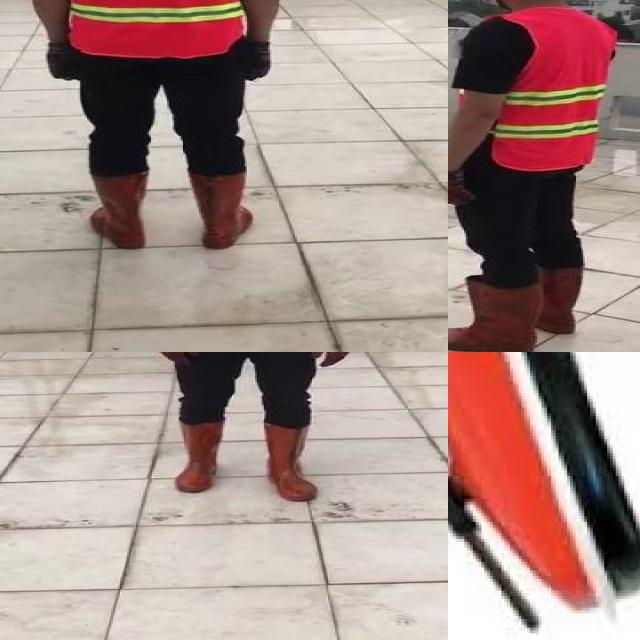Ear-protection: (448, 352, 640, 607)
boots: (448, 277, 542, 352), (186, 169, 256, 248), (86, 172, 148, 251), (261, 421, 319, 503), (177, 419, 227, 494), (539, 267, 585, 335)
hand_glove: (240, 40, 272, 81), (48, 40, 76, 82), (448, 169, 474, 206), (157, 352, 199, 368), (310, 352, 349, 368)
person: (9, 0, 299, 257), (138, 352, 362, 508)
vest: (489, 10, 619, 173), (49, 0, 248, 55)
